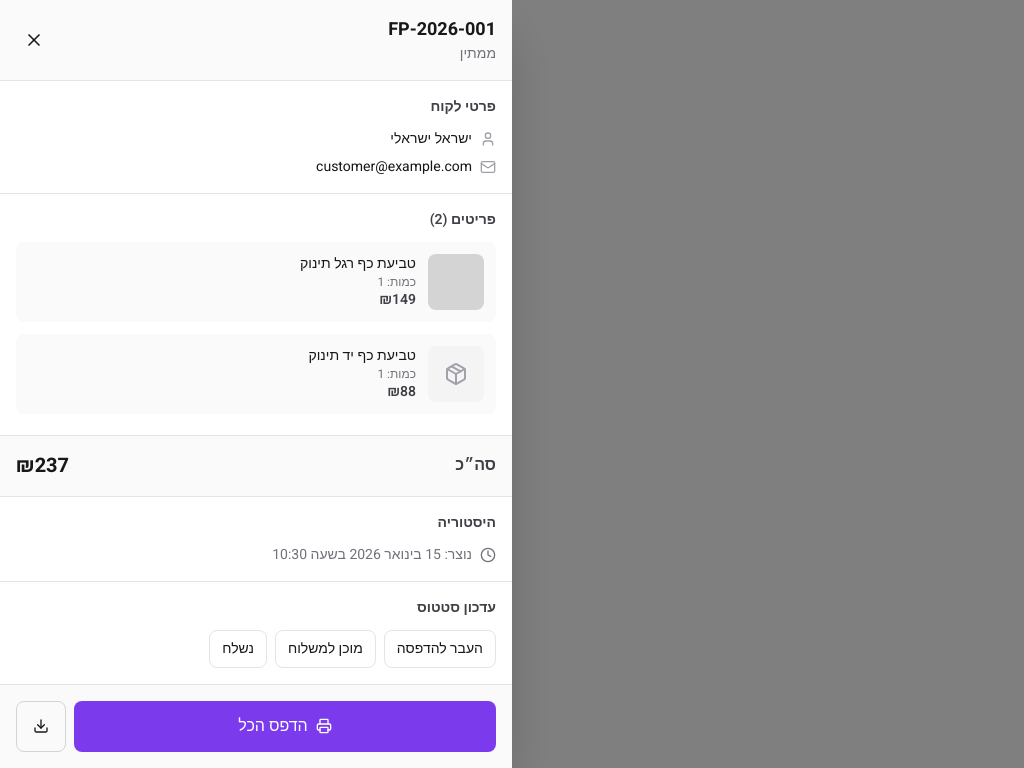
Test case: OrderDetailPanel › Status Update › should disable status buttons during update
The image size is (1024, 768).
Click the button with test id "status-printing".
click(440, 649)  # box [384, 630, 496, 668]
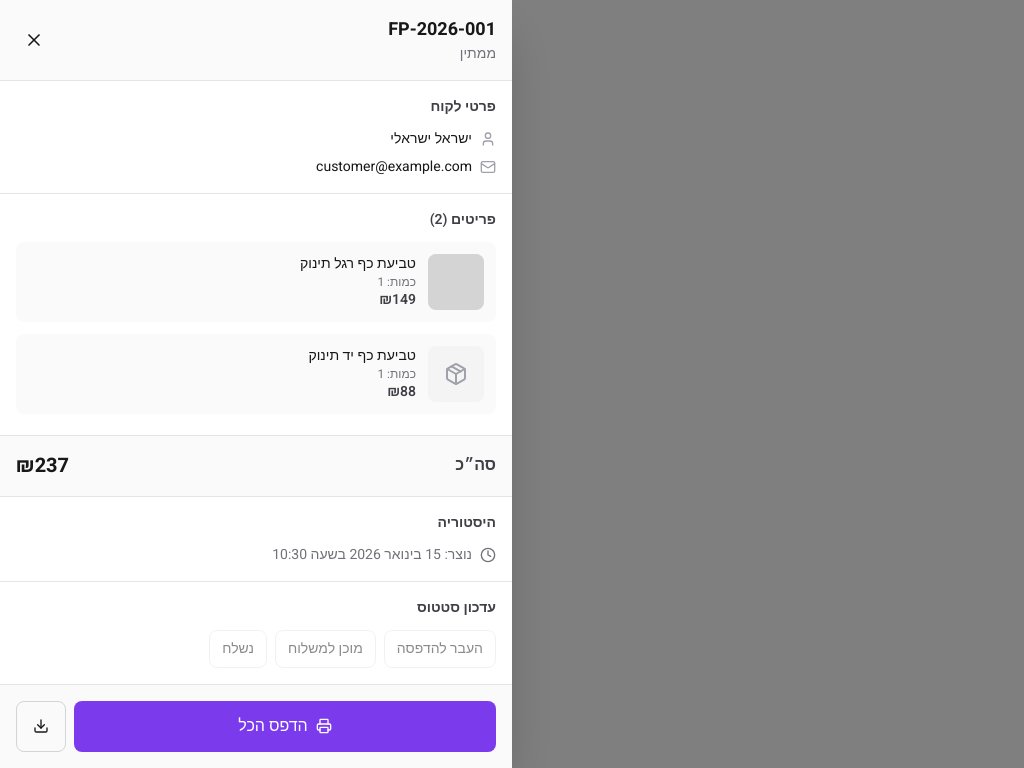
expect the button with test id "status-printing" is disabled: met, box [384, 630, 496, 668]
